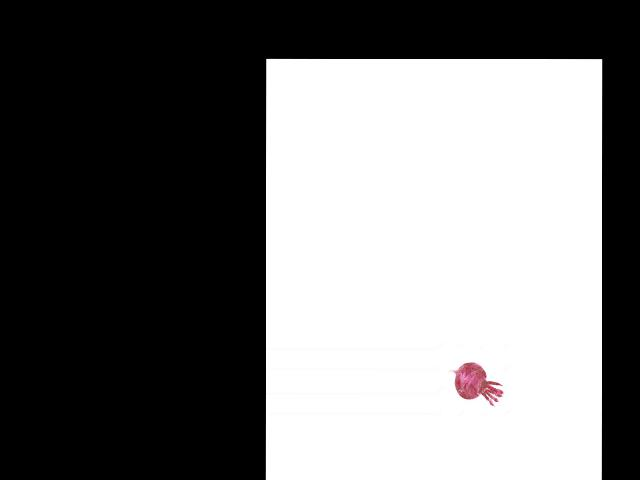beet: (447, 361, 503, 406)
